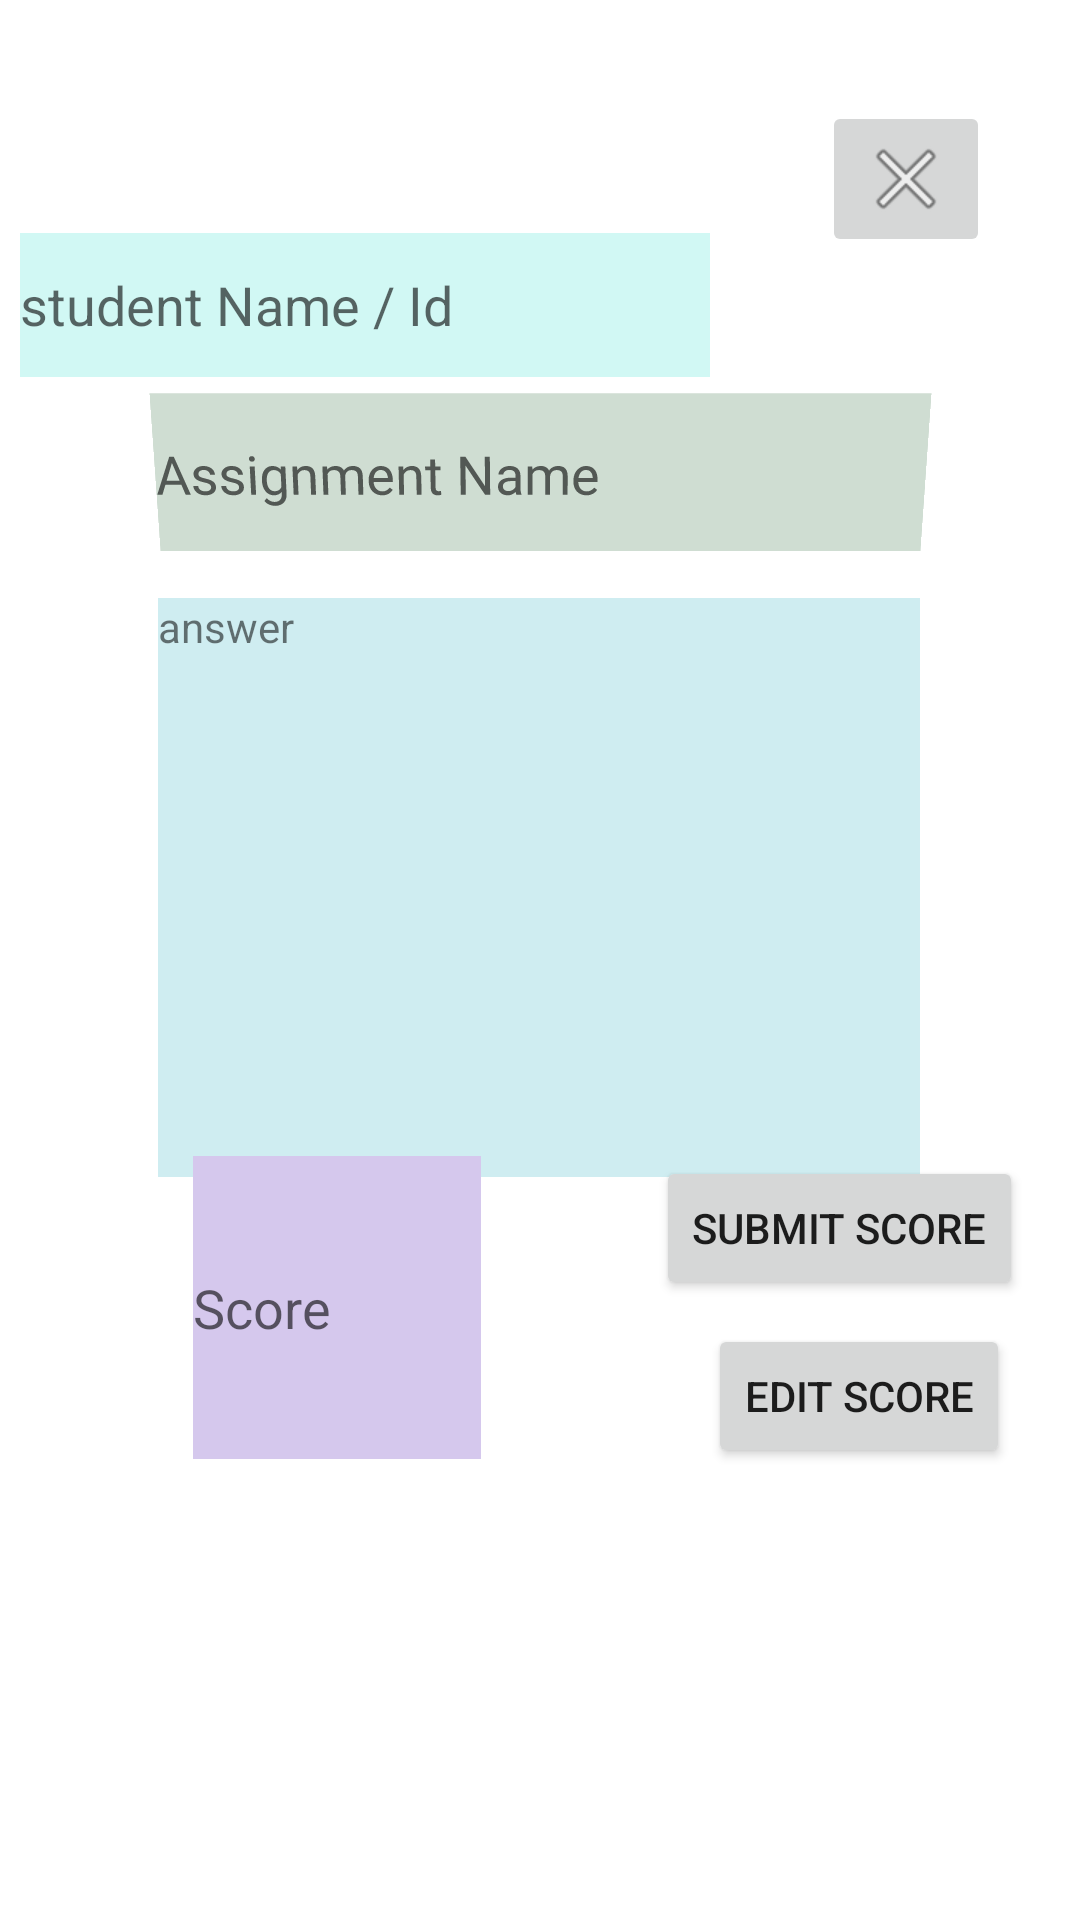

Where to tap for icons on this 1080×1920 app screen, as [x,y]:
close clear cancel: [906,179]
